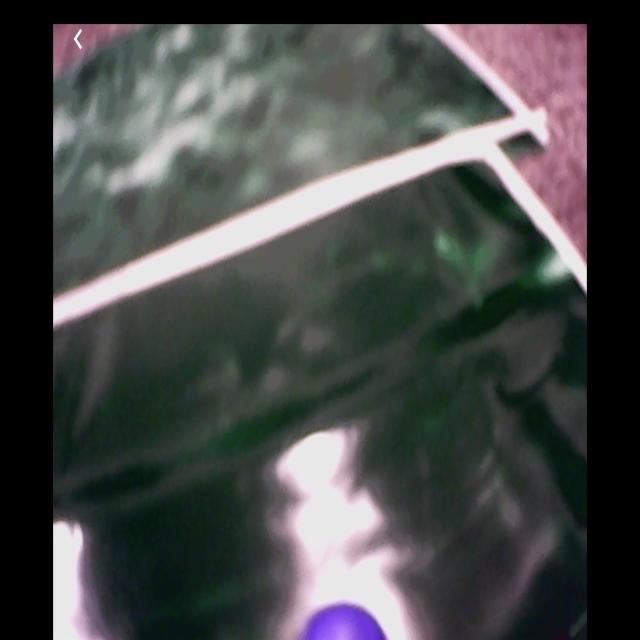ball: (302, 602, 387, 640)
